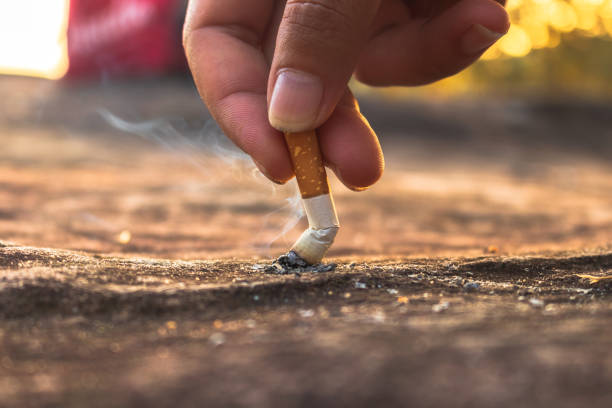cigarette: (274, 132, 340, 271)
